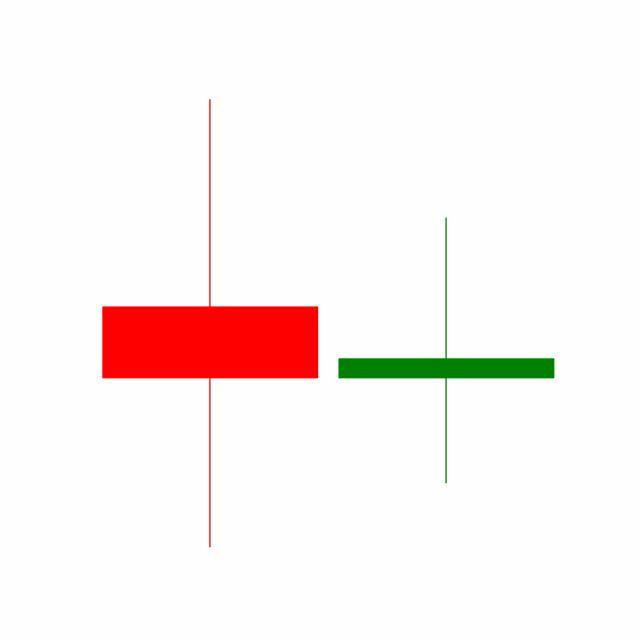Spinning Top: (328, 215, 566, 487)
